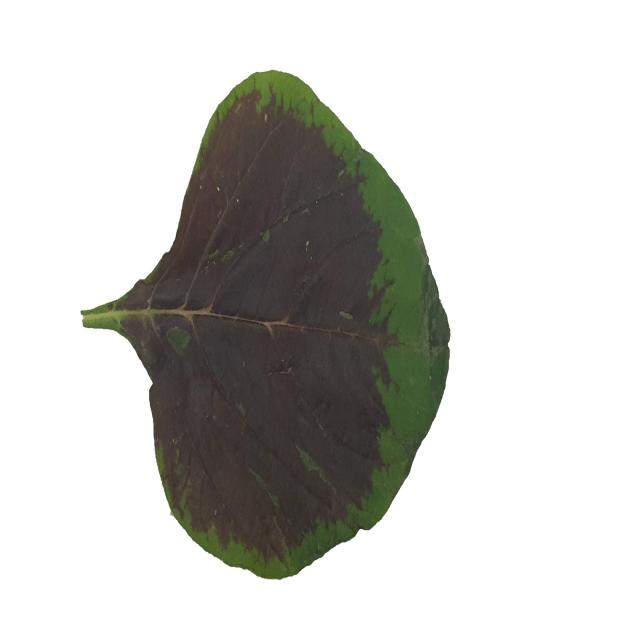Medicinal-Arive Dantu: (78, 70, 452, 578)
